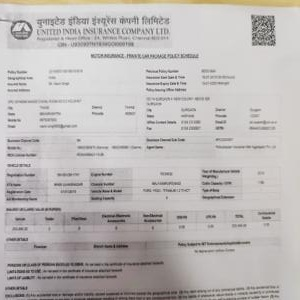image: (6, 15, 35, 42)
table: (5, 137, 284, 202), (6, 211, 286, 251), (6, 95, 281, 134), (6, 64, 238, 92)
text: (4, 260, 285, 300), (37, 14, 170, 47), (86, 50, 204, 61)
